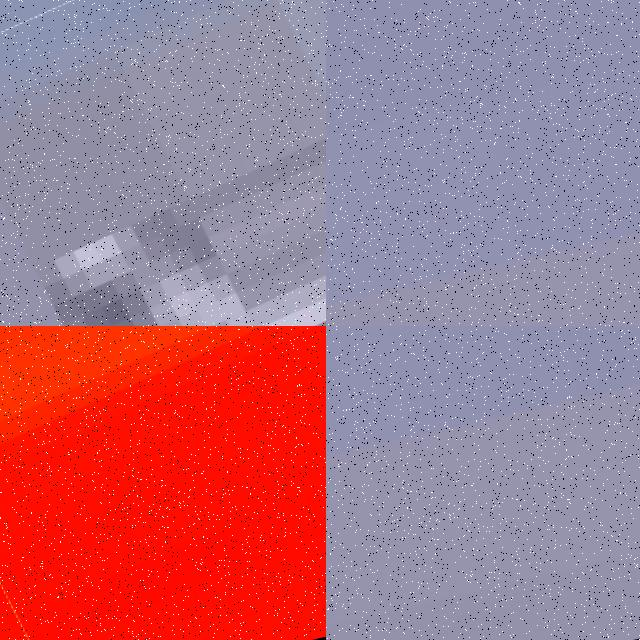0: (0, 0, 326, 326)
drone: (0, 326, 326, 640)
